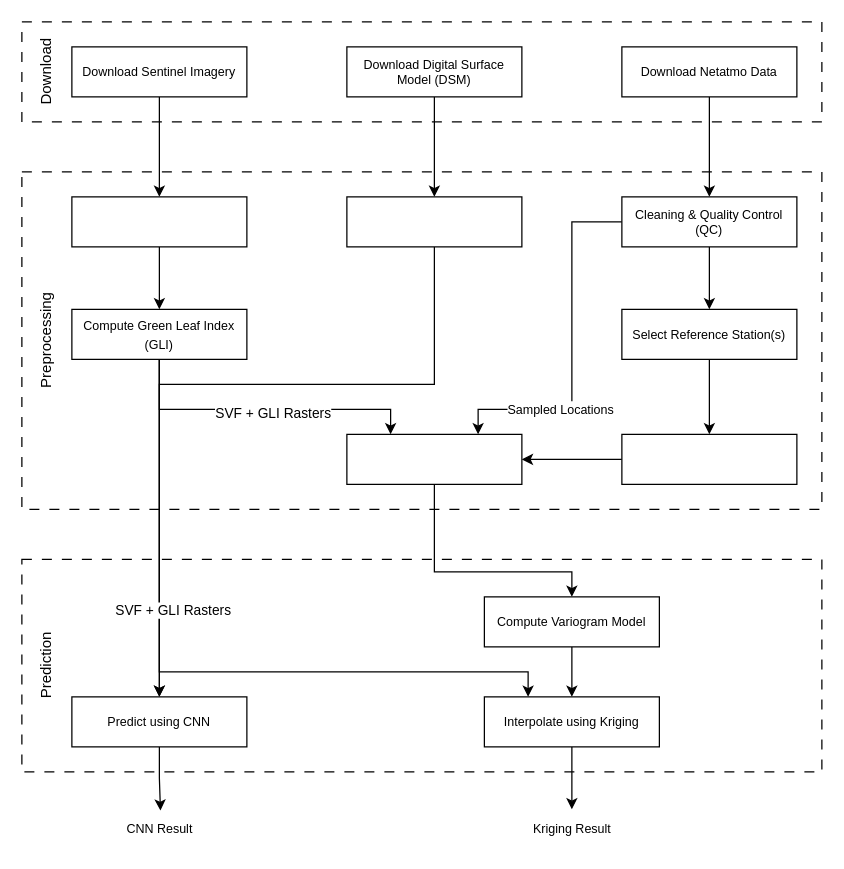
Image size: 844x869. Some labels were removed from this diagram. Here are the shapes that lost their labels. From the top down, the centre of each, then its label:
At point 159,221: "Average Bands throughout the Study Period".
At point 434,221: "Generate Sky View Factor (SVF) Raster".
At point 434,458: "Add Raster Values for the Sampled Locations".
At point 709,458: "Compute Temperature Differences".
